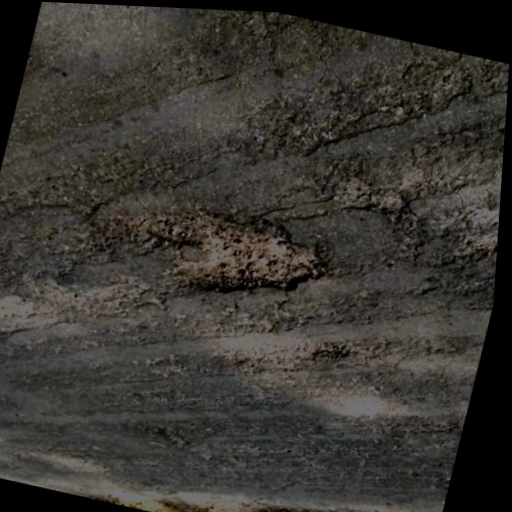pothole: (119, 191, 336, 321)
